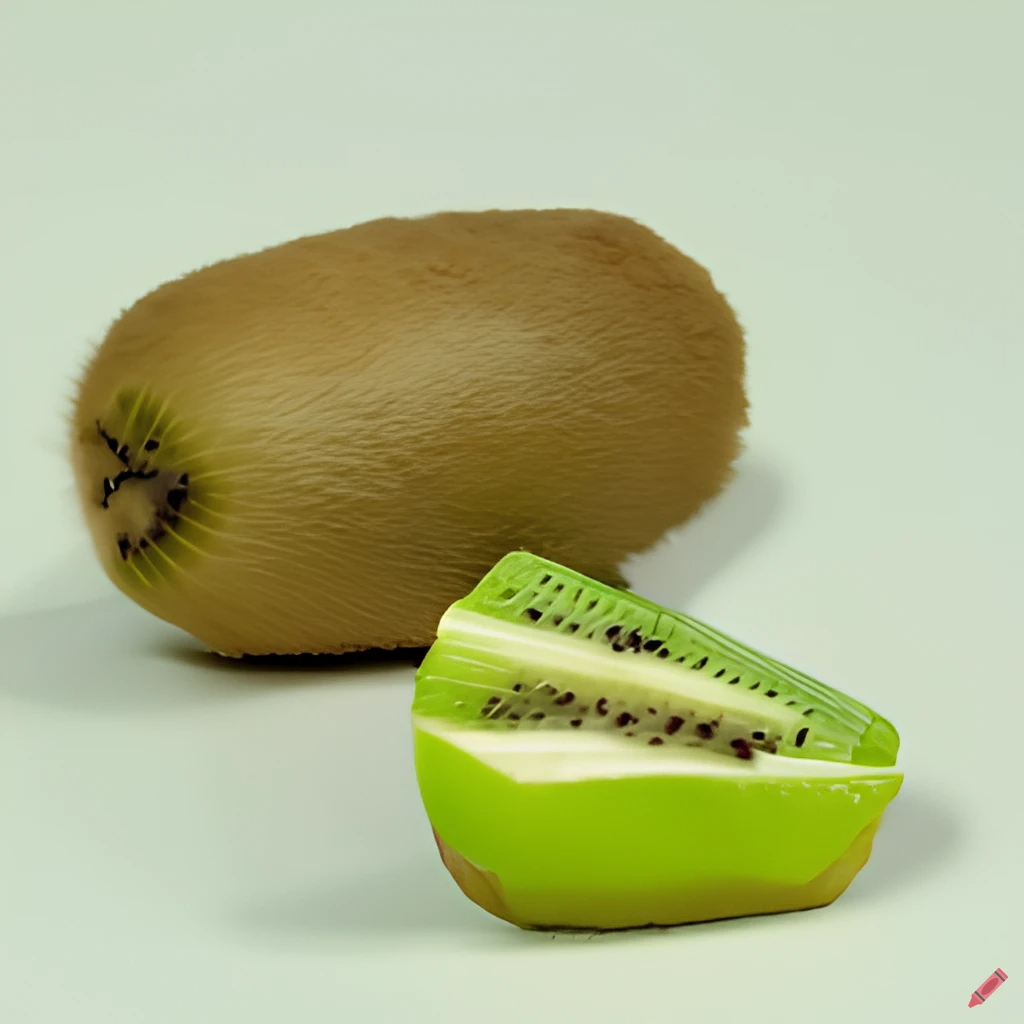Kiwi: (59, 155, 800, 646)
